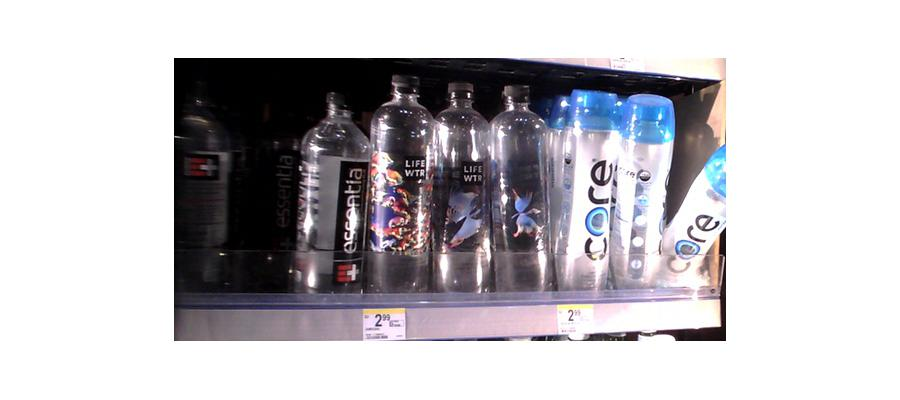bottle: (550, 81, 623, 300), (366, 68, 435, 296), (295, 87, 366, 299), (491, 78, 551, 301), (434, 74, 492, 299), (662, 105, 727, 290), (616, 92, 674, 288), (174, 94, 228, 294)
